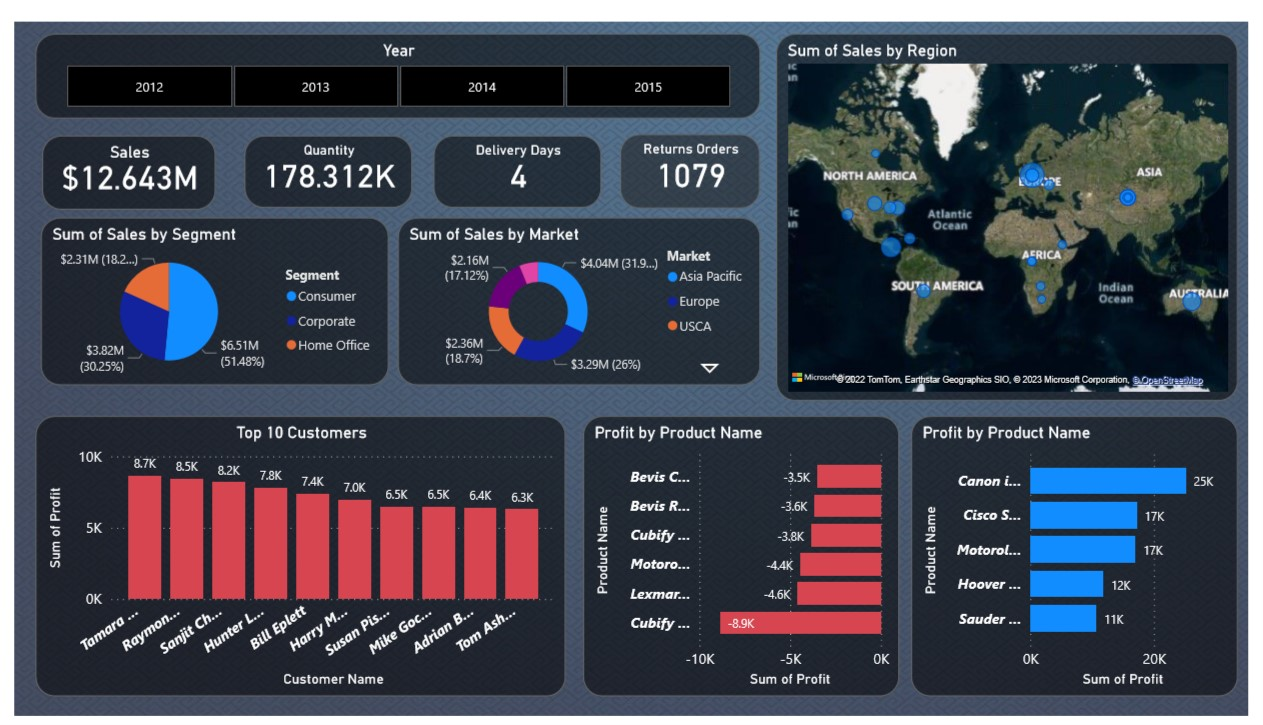

Layout of this report page (visuals, bound fields, positions):
{"tool":"powerbi","page":{"name":"Page 1","canvas":[1280,720],"ordinal":0},"visuals":[{"type":"card","title":"Sales","fields":{"Values":["Orders.Sales"]},"box":[28.8,118,179.8,76.8],"z":0},{"type":"card","title":"Quantity","fields":{"Values":["Orders.Quantity"]},"box":[238.8,118,174.3,75.5],"z":1000},{"type":"card","title":"Delivery Days","fields":{"Values":["Orders.Delivery Days "]},"box":[435,118,174.3,75.5],"z":3000},{"type":"slicer","title":"Year","fields":{"Values":["Orders.Year"]},"box":[22,12.3,752,87.8],"z":3001},{"type":"card","title":"Returns Orders","fields":{"Values":["Returns.Return Orders"]},"box":[628.5,116.6,145.5,76.8],"z":3002},{"type":"map","fields":{"Size":["Orders.Sales"],"Category":["Orders.Region"]},"box":[790.4,12.3,478.9,381.5],"z":3003},{"type":"barChart","title":"Profit by Product Name","fields":{"Y":["Orders.Profit"],"Category":["Orders.Product Name"]},"box":[930.4,408.9,338.9,290.9],"z":3004},{"type":"barChart","title":" Profit by Product Name","fields":{"Y":["Orders.Profit"],"Category":["Orders.Product Name"]},"box":[590.1,408.9,328,290.9],"z":3005},{"type":"pieChart","fields":{"Category":["Orders.Segment"],"Y":["Orders.Sales"]},"box":[27.4,203.1,360.9,174.3],"z":3006},{"type":"donutChart","fields":{"Y":["Orders.Sales"],"Category":["Orders.Market"]},"box":[397.9,203.1,376,174.3],"z":3007},{"type":"columnChart","title":"Top 10 Customers ","fields":{"Y":["Orders.Profit"],"Category":["Orders.Customer Name"]},"box":[22,408.9,550.3,290.9],"z":3008}]}

Visuals, with their boxes in screenshot pixels (x1, y1, x2, y2), scaled from the page's 1280x720 canvas onto the 1263x725 screenshot:
"Sales" card: box(28, 119, 206, 196)
"Quantity" card: box(236, 119, 408, 195)
"Delivery Days" card: box(429, 119, 601, 195)
"Year" slicer: box(22, 12, 764, 101)
"Returns Orders" card: box(620, 117, 764, 195)
map - Orders.Sales x Orders.Region: box(780, 12, 1252, 397)
"Profit by Product Name" barChart: box(918, 412, 1252, 705)
" Profit by Product Name" barChart: box(582, 412, 906, 705)
pieChart - Orders.Segment x Orders.Sales: box(27, 205, 383, 380)
donutChart - Orders.Sales x Orders.Market: box(393, 205, 764, 380)
"Top 10 Customers " columnChart: box(22, 412, 565, 705)
